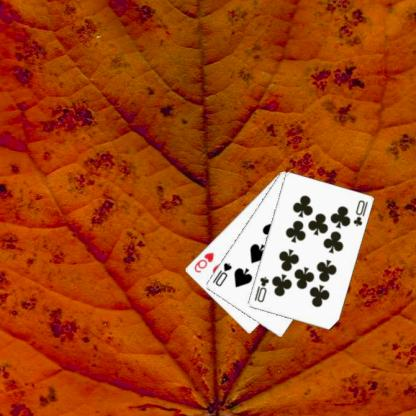10C: (352, 197, 371, 228), (253, 274, 272, 304)
10S: (211, 260, 235, 288)
6H: (193, 250, 217, 274)
